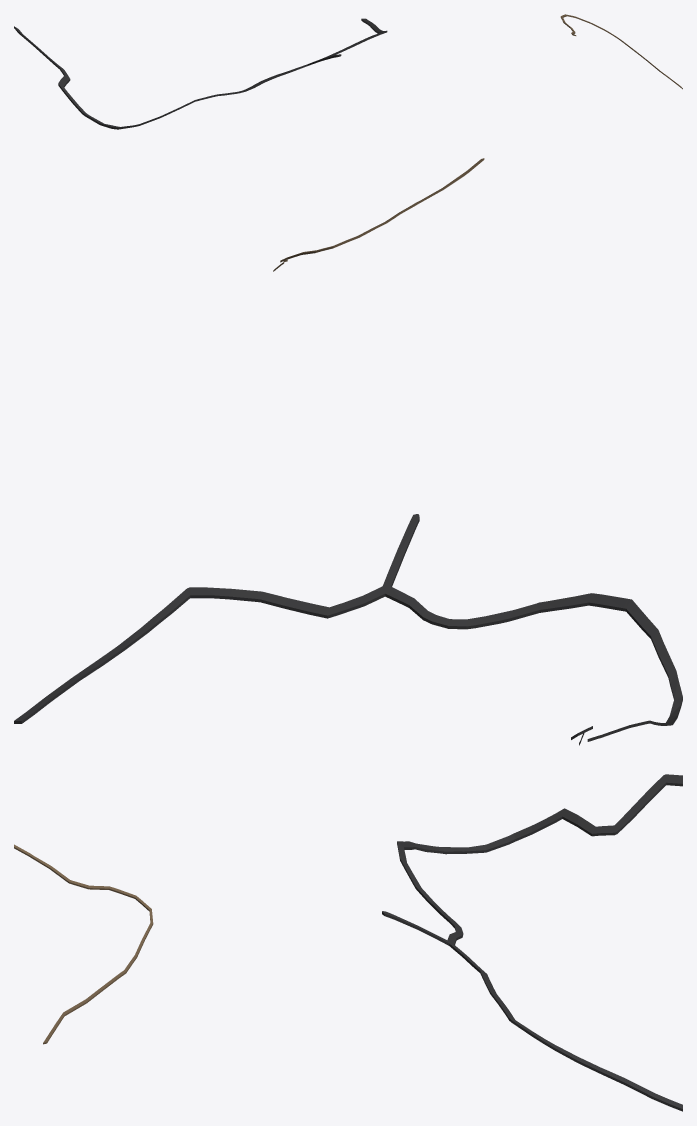
3 renders of one model, top to bottom at view 1: azimuth 30°, elevation 25°; view 2: azimuth 150°, elevation 25°; view 3: azimuth 270°, elevation 25°, orthographic. The views are drawn at different scales.
Size of the model in its own units: 289 by 115 by 292.
